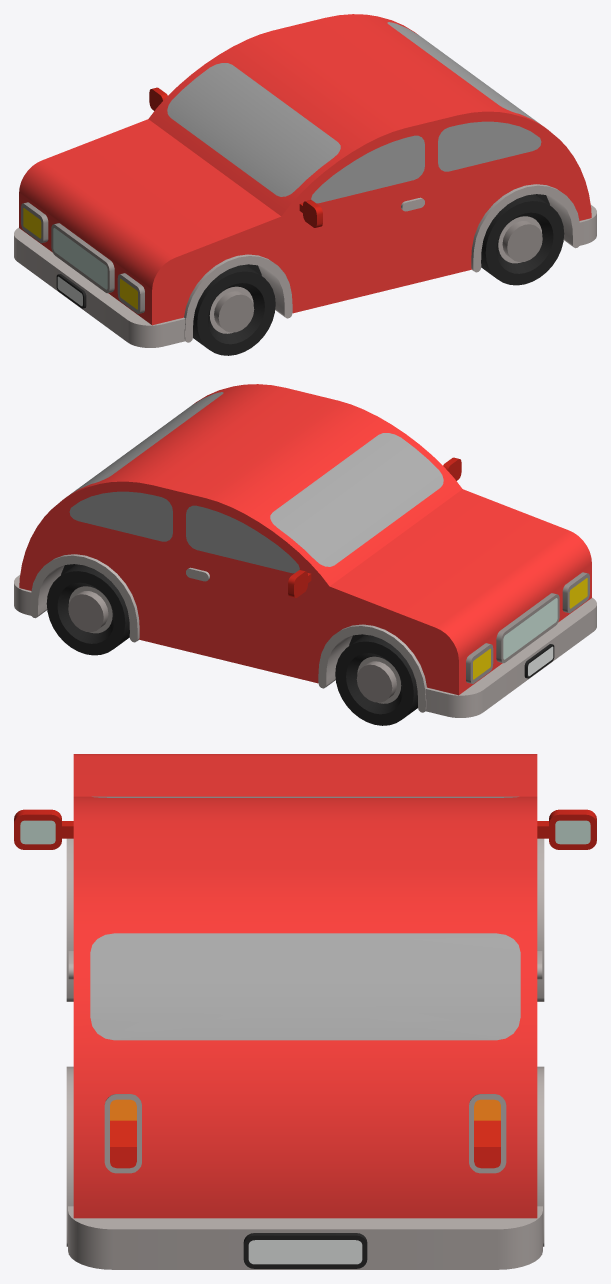
File: City Car Hatchback Mod.fbx
3 views of the same model, one above another, from view 1: azimuth 30°, elevation 25°; view 2: azimuth 150°, elevation 25°; view 3: azimuth 270°, elevation 25° (orthographic). The views are drawn at different scales.
Visible parts, largest first — view 1: City_Car_Hatchback, Wheels_Back, Wheels_Front; view 2: City_Car_Hatchback, Wheels_Back, Wheels_Front; view 3: City_Car_Hatchback.
Part boxes in pixels (left/top/right/bottom): City_Car_Hatchback: left=14, top=14, right=596, bottom=347; Wheels_Back: left=481, top=194, right=564, bottom=285; Wheels_Front: left=193, top=264, right=275, bottom=355; City_Car_Hatchback: left=14, top=384, right=596, bottom=717; Wheels_Back: left=46, top=564, right=129, bottom=655; Wheels_Front: left=335, top=634, right=417, bottom=725; City_Car_Hatchback: left=14, top=754, right=596, bottom=1269.
Size of the model in its own units: 845 by 318 by 520.
